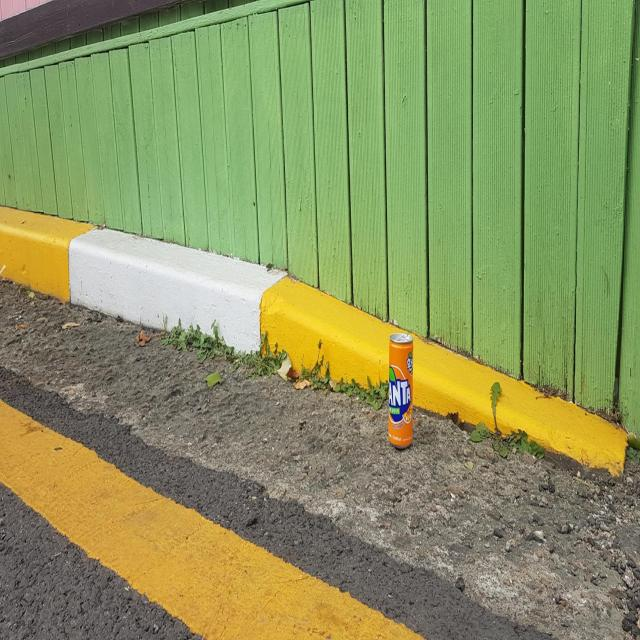can: (389, 332, 415, 449)
